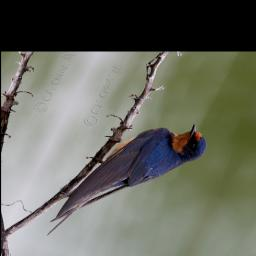Swallow: (41, 101, 218, 256)
